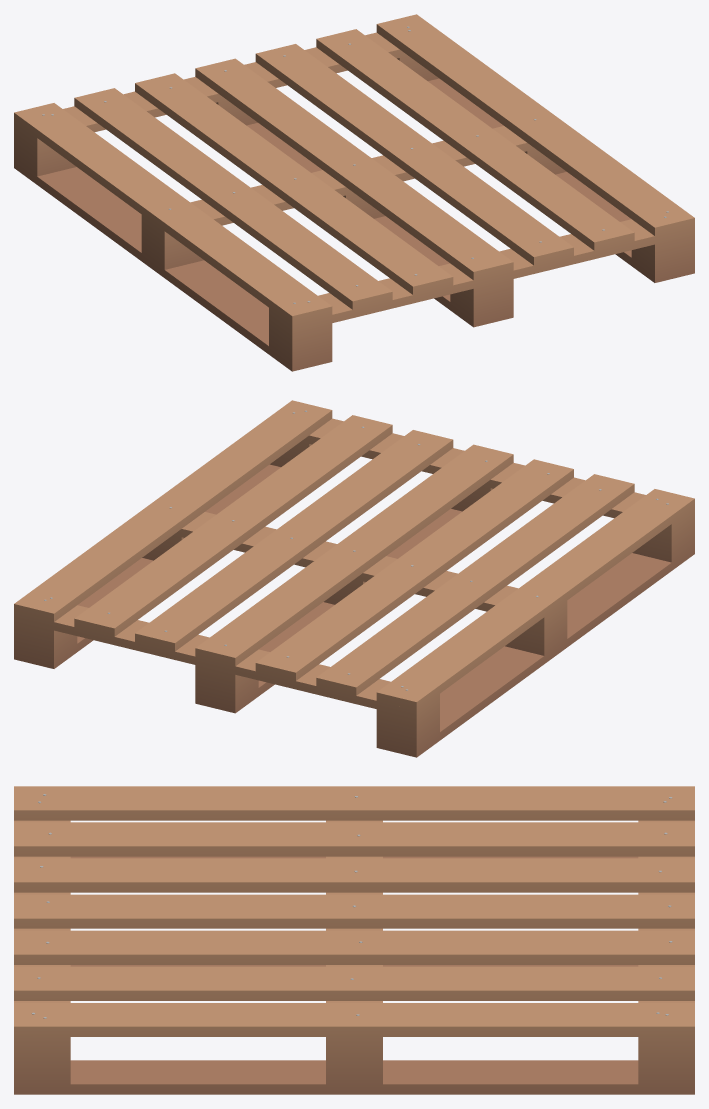
Rendered from pallet_medium_01.glb.
The picture shows the model from 3 angles, top to bottom: view 1: azimuth 30°, elevation 25°; view 2: azimuth 150°, elevation 25°; view 3: azimuth 270°, elevation 25°; orthographic projection. The views are drawn at different scales.
Visible parts, largest first — view 1: pallet_medium_01; view 2: pallet_medium_01; view 3: pallet_medium_01.
Part boxes in pixels (x1,y1,x2,y2): pallet_medium_01: (14, 14, 694, 371); pallet_medium_01: (14, 400, 694, 757); pallet_medium_01: (14, 786, 694, 1094).
Size of the model in its own units: 1 by 0.1338 by 1.2.
Materials: 1 (1 with a texture image).
